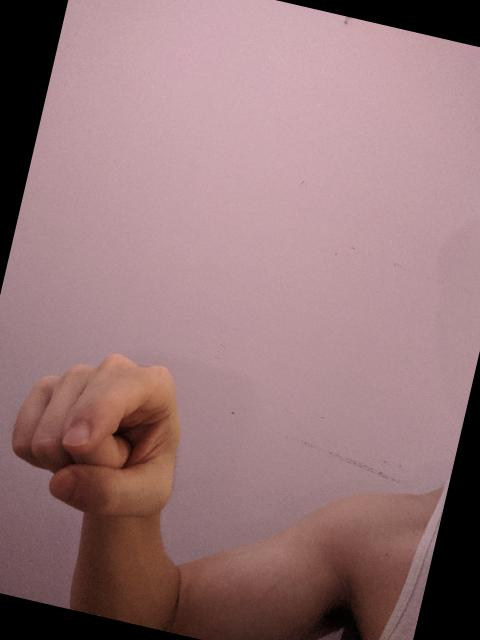Z: (0, 326, 208, 539)
